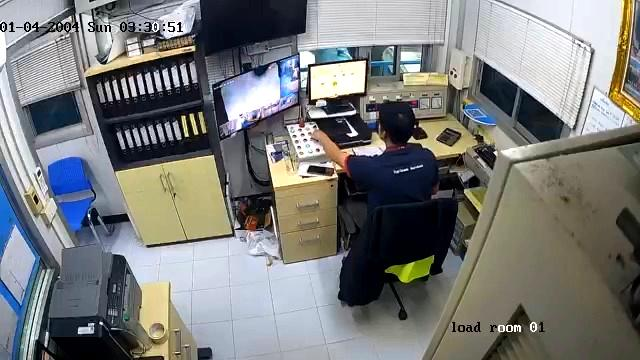Head: (378, 101, 414, 146)
People: (311, 99, 438, 195)
Phone: (307, 166, 335, 177)
